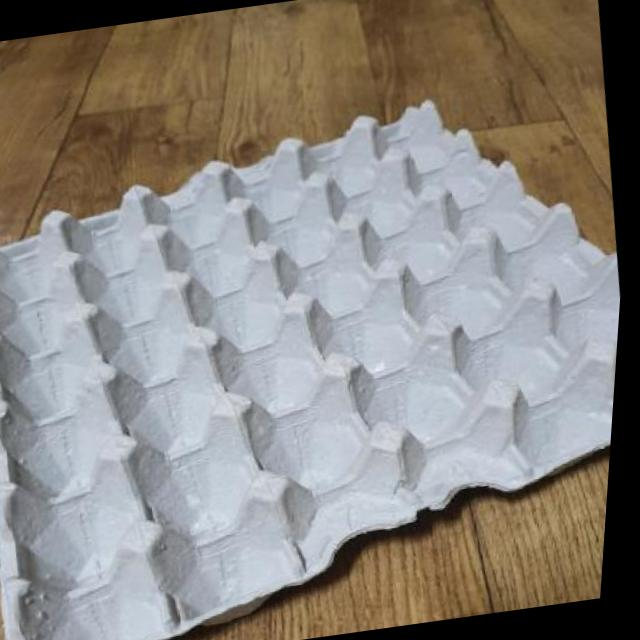box: (0, 64, 637, 640)
